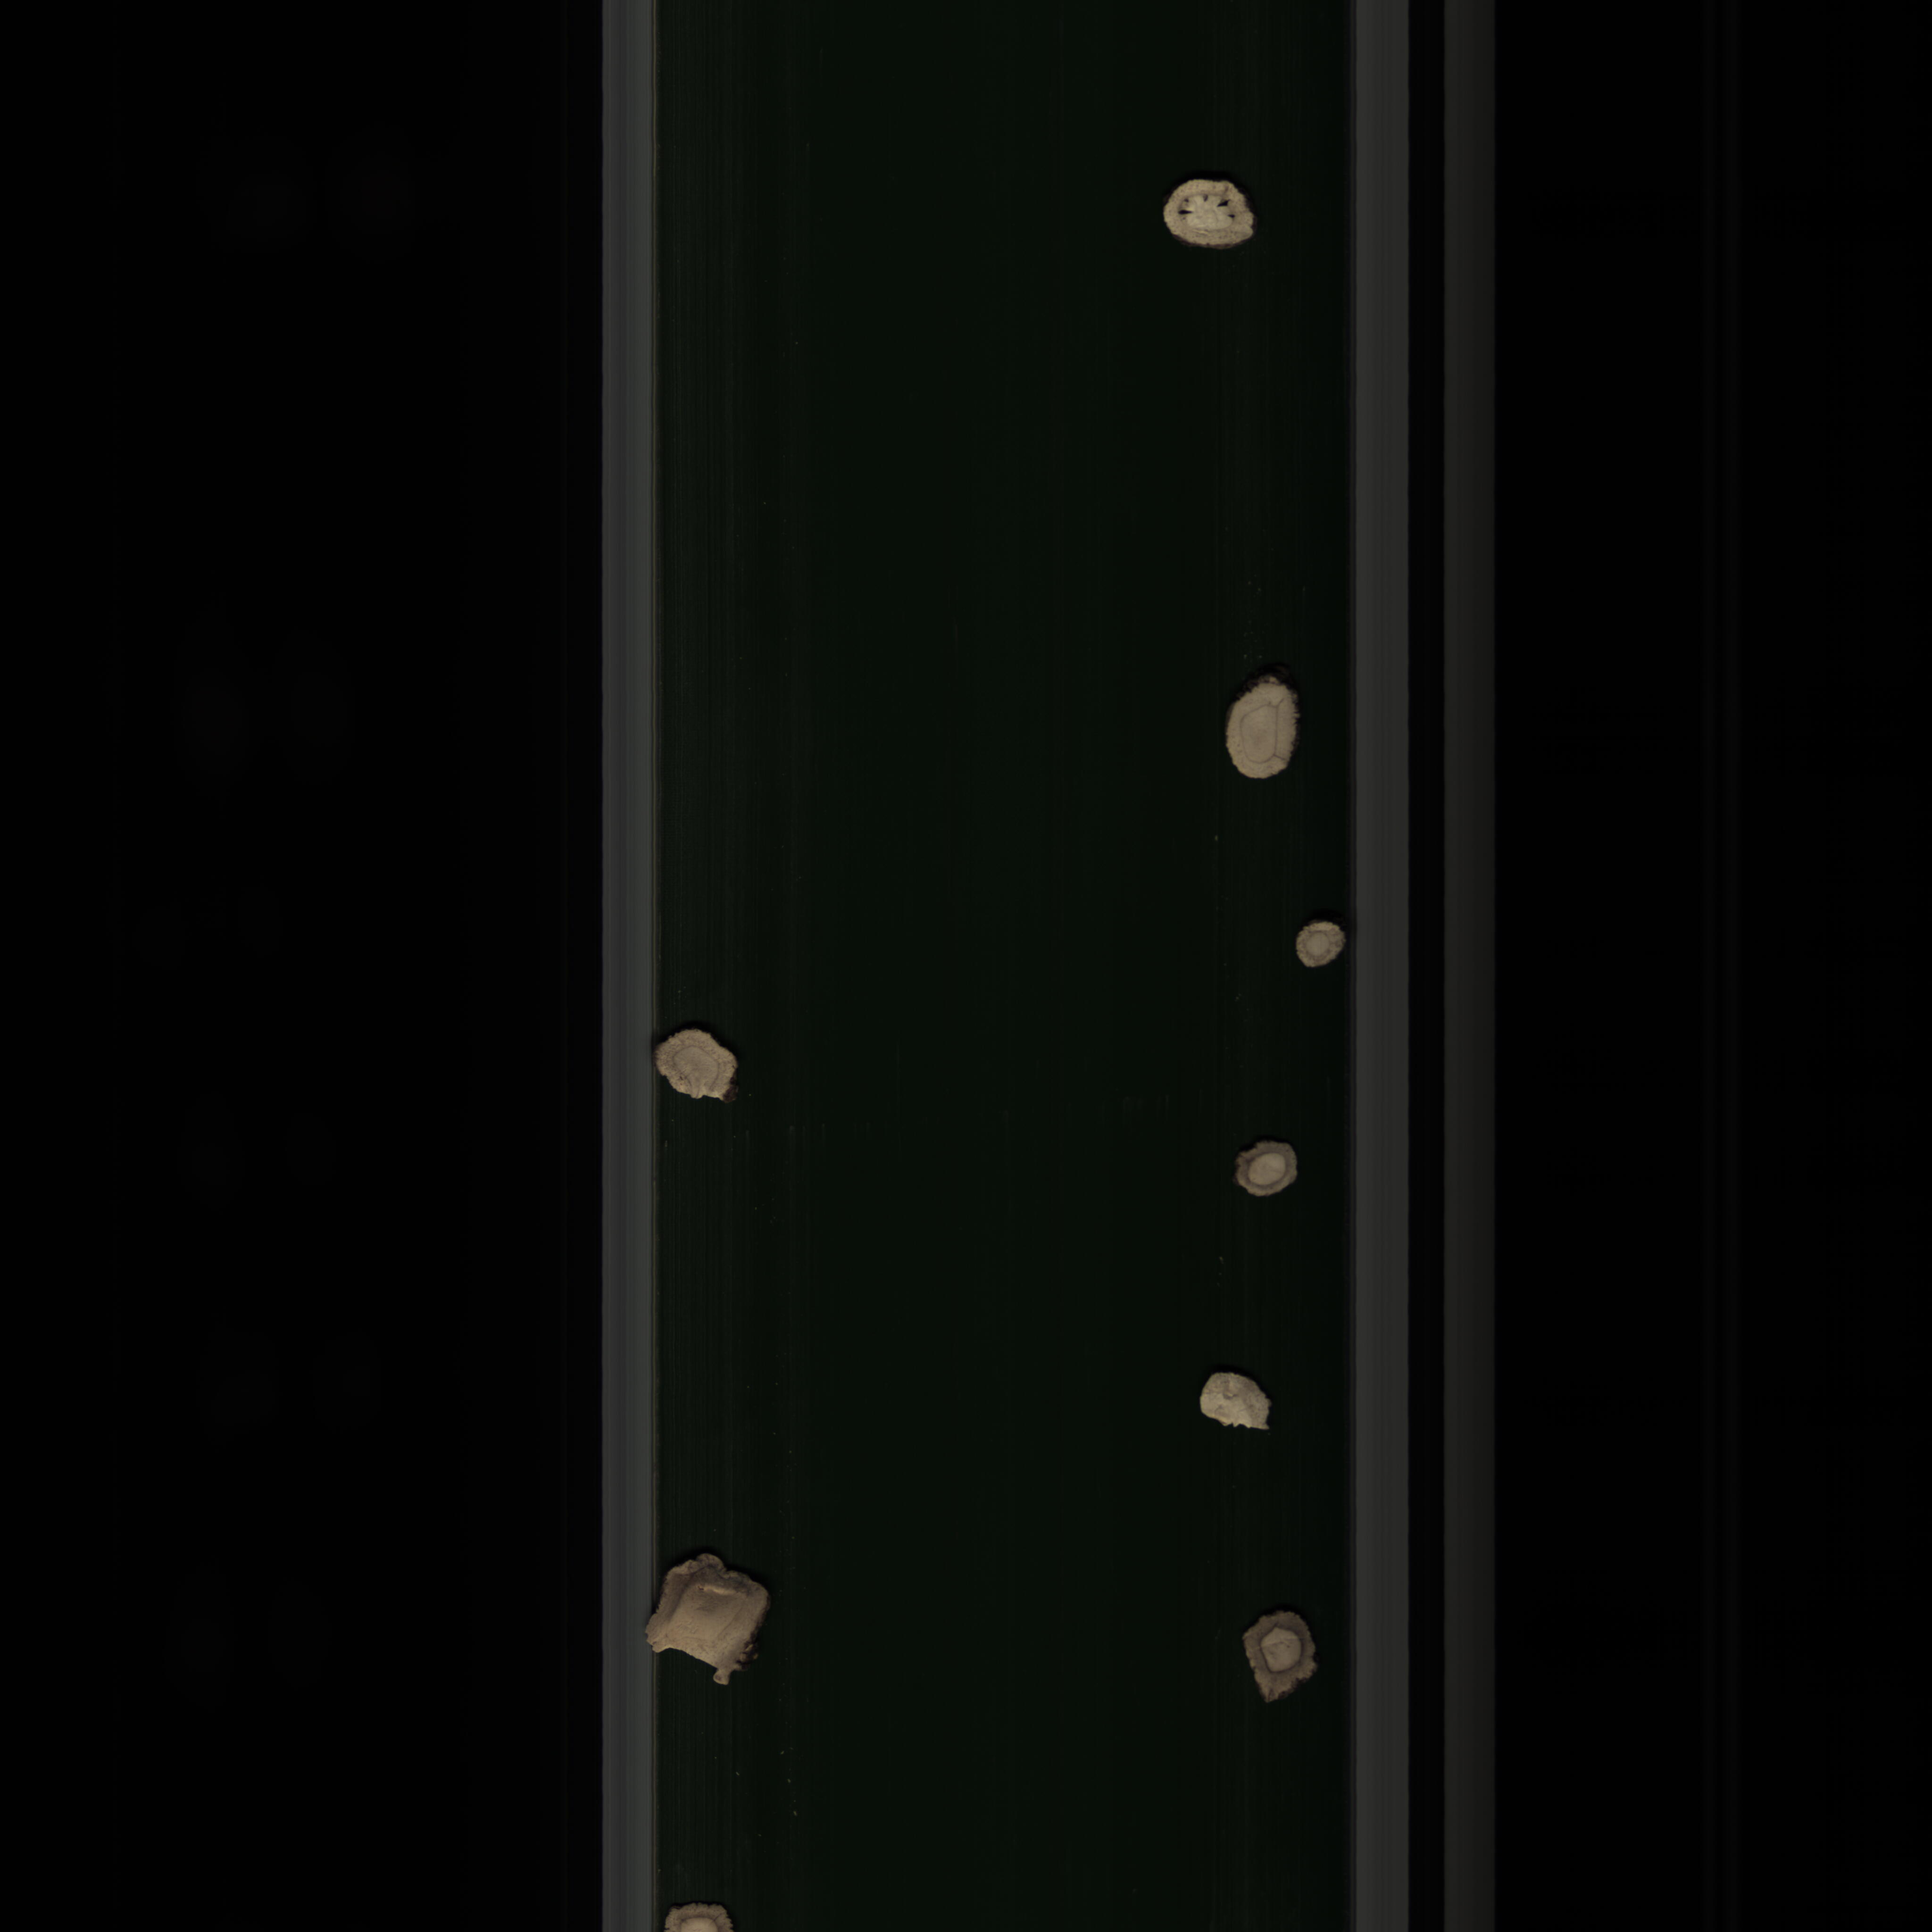debris: (1192, 1366, 1297, 1445)
hole: (1157, 173, 1272, 258)
moldy: (635, 1545, 777, 1700), (1235, 1598, 1330, 1718), (1230, 1134, 1306, 1200)
